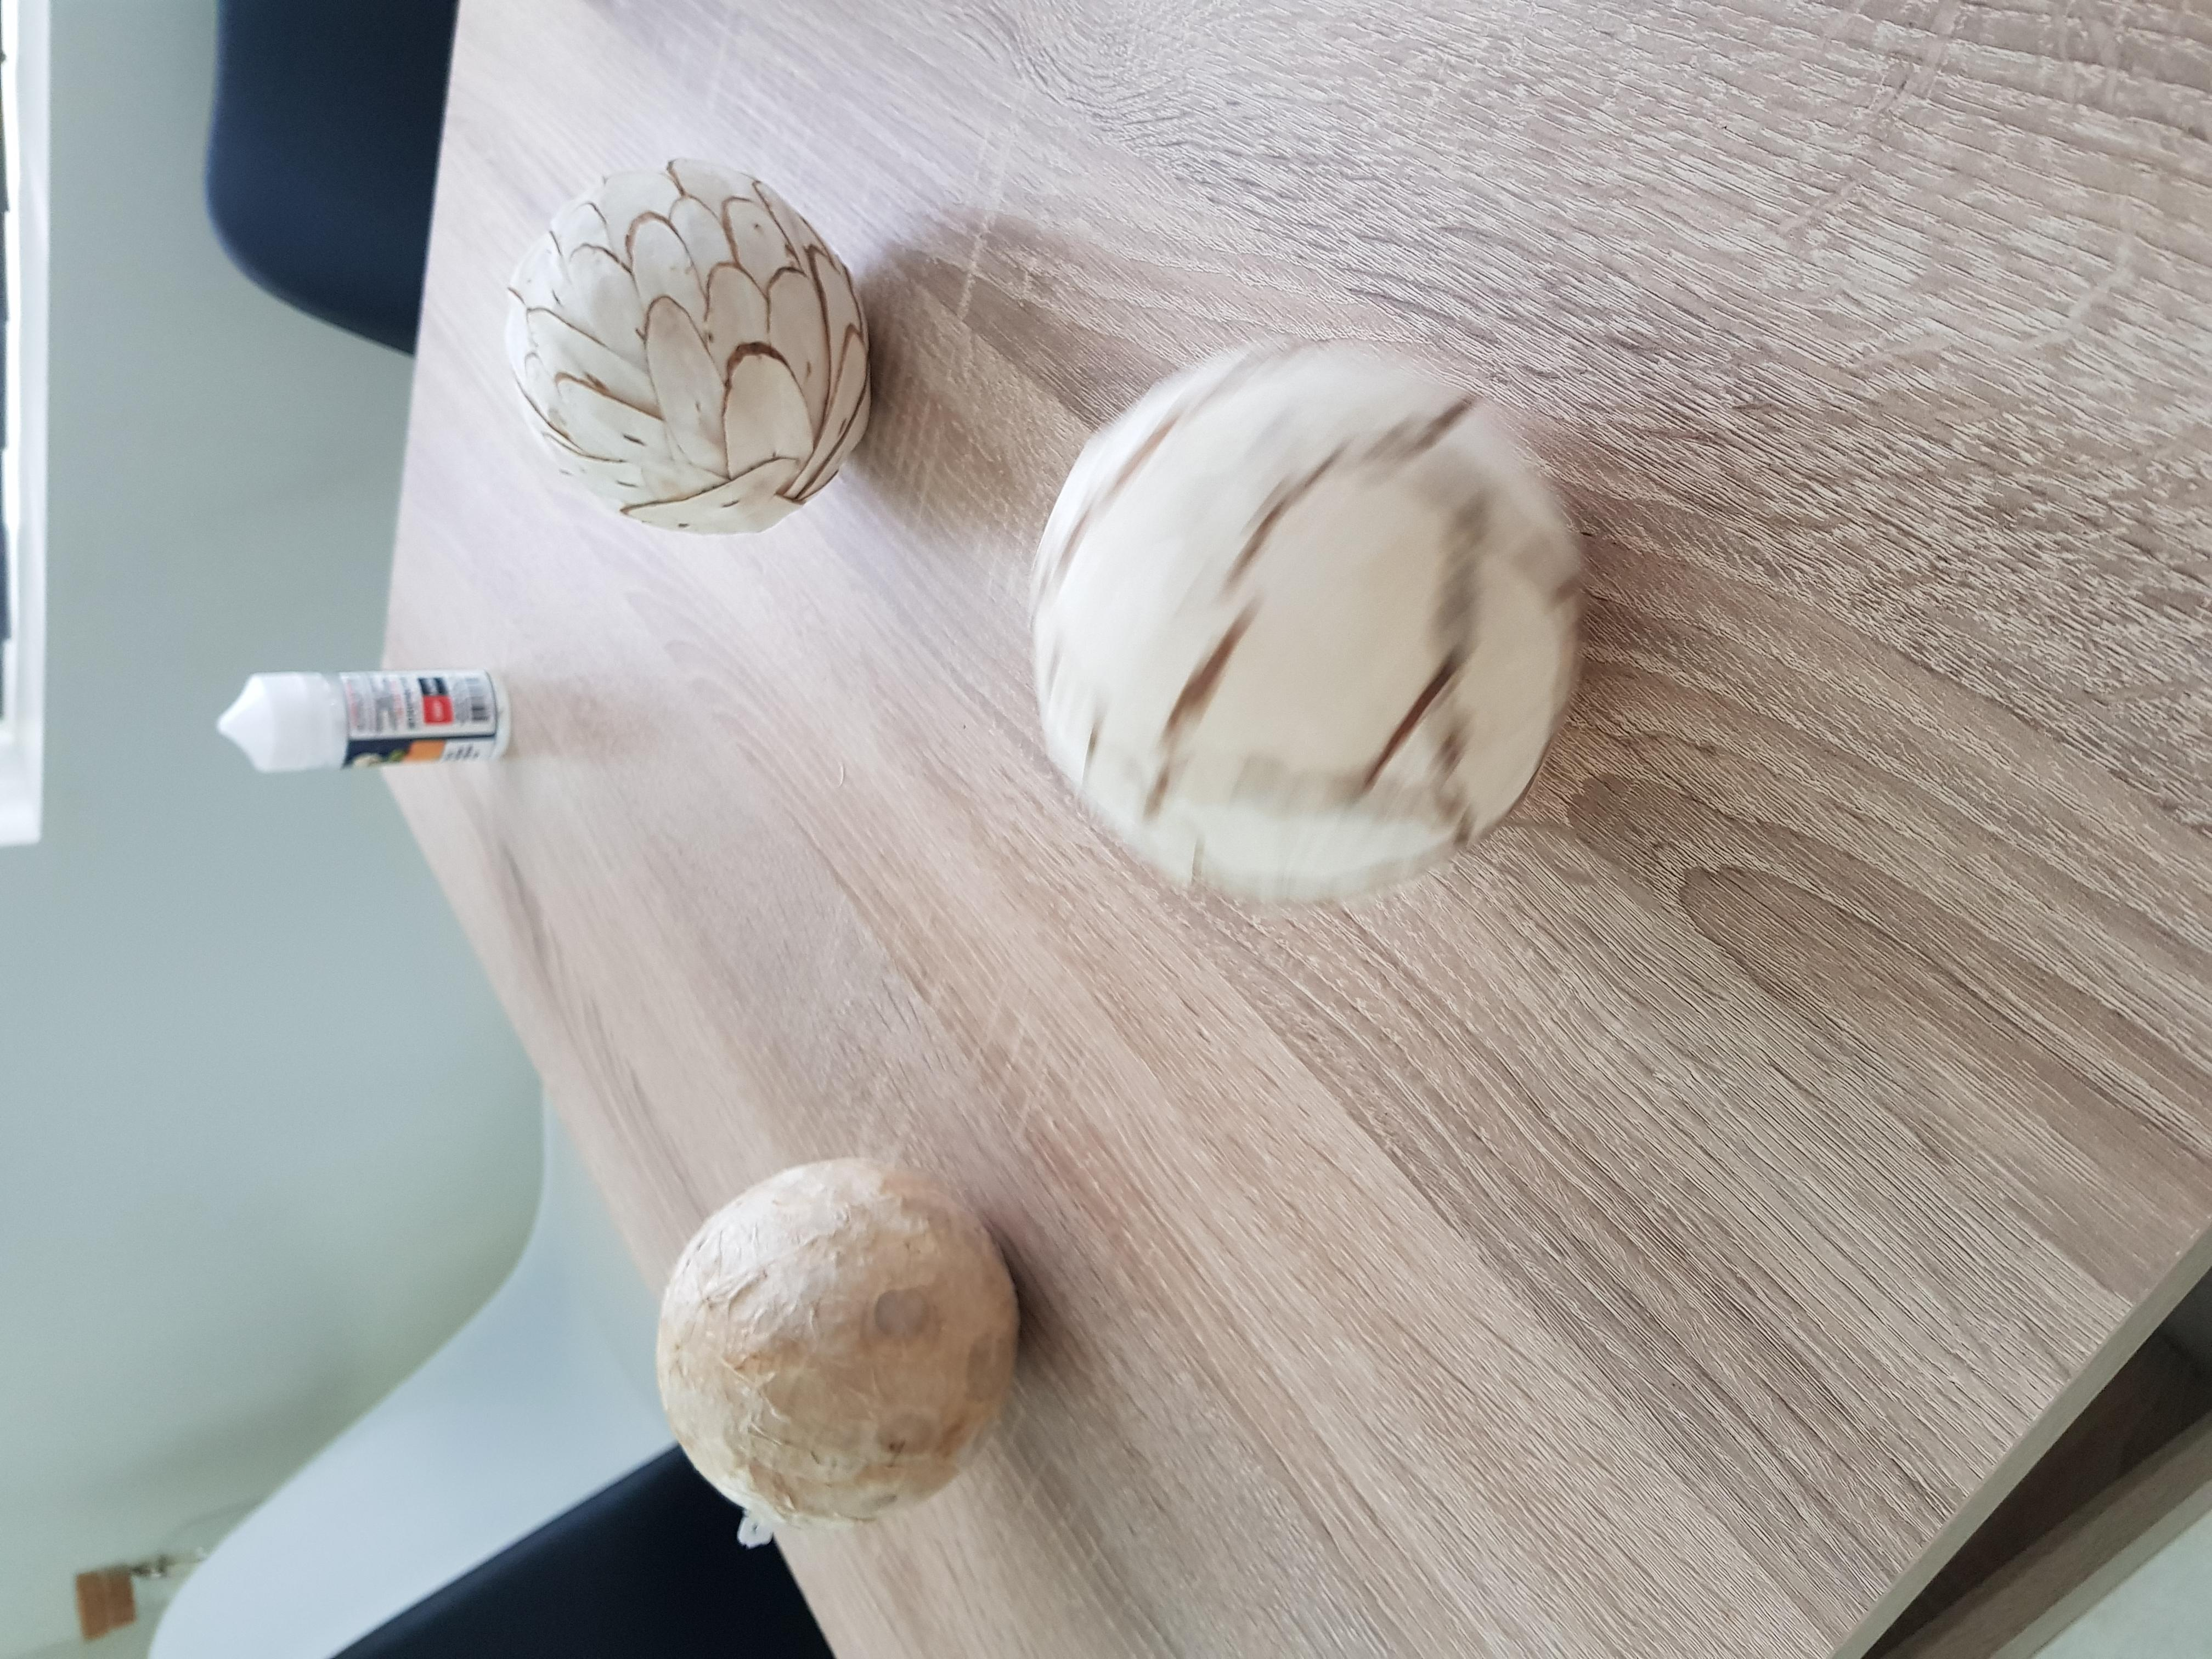sphere: (1017, 342, 1580, 906), (643, 1150, 1024, 1521), (493, 162, 867, 535)
